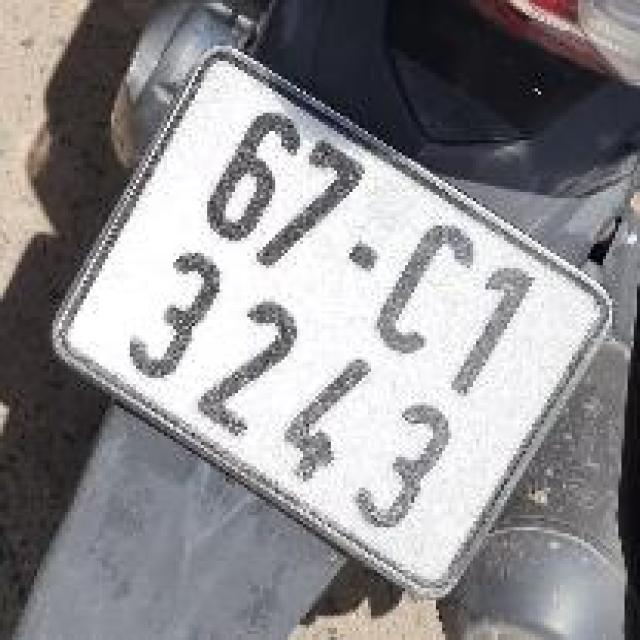1: (428, 251, 553, 411)
2: (188, 285, 322, 452)
3: (333, 385, 473, 545), (110, 231, 244, 396)
4: (264, 335, 400, 497)
6: (191, 93, 317, 258)
7: (242, 131, 382, 285)
C: (360, 206, 495, 371)
